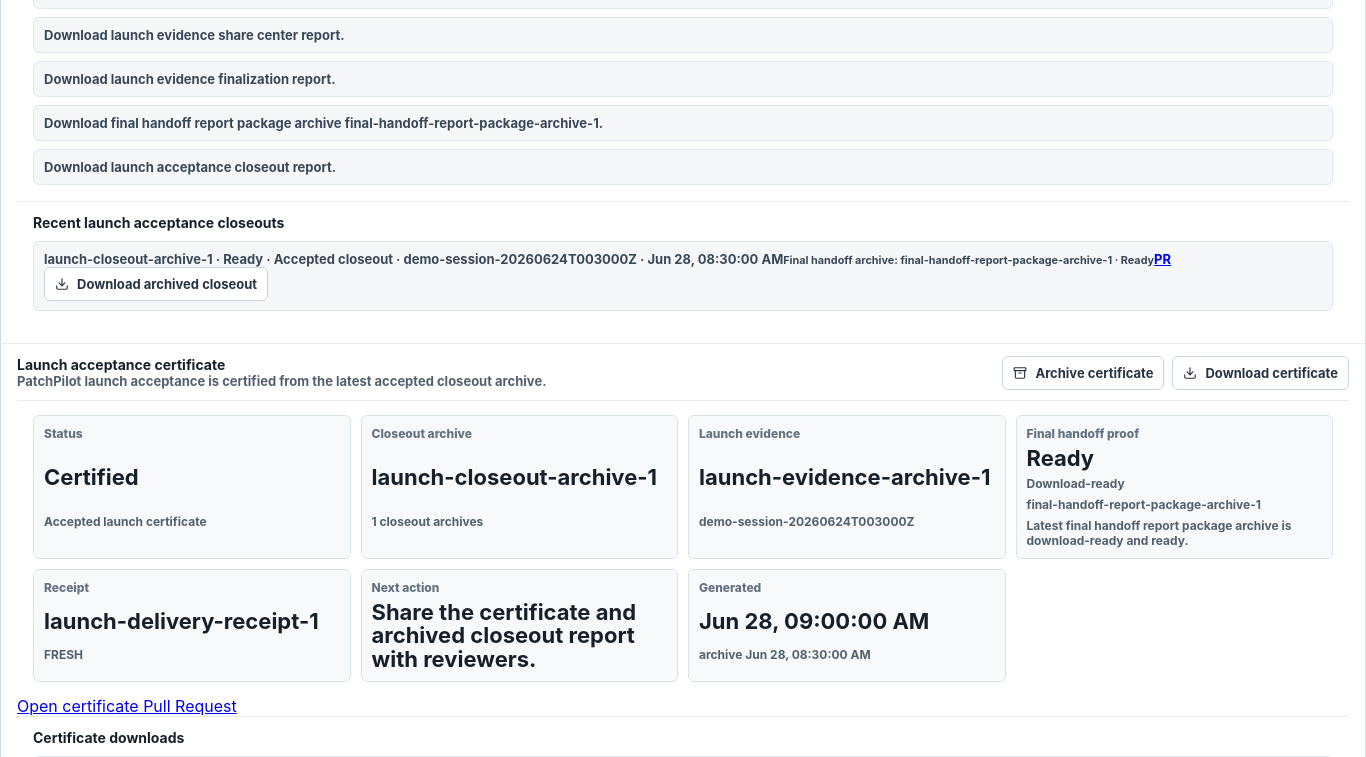
Test: archives launch acceptance certificate and downloads archived report
(page scrolled)
Click the button with aria-label "Archive launch acceptance certificate": click(1083, 373) [1002,356,1164,390]
(page scrolled)
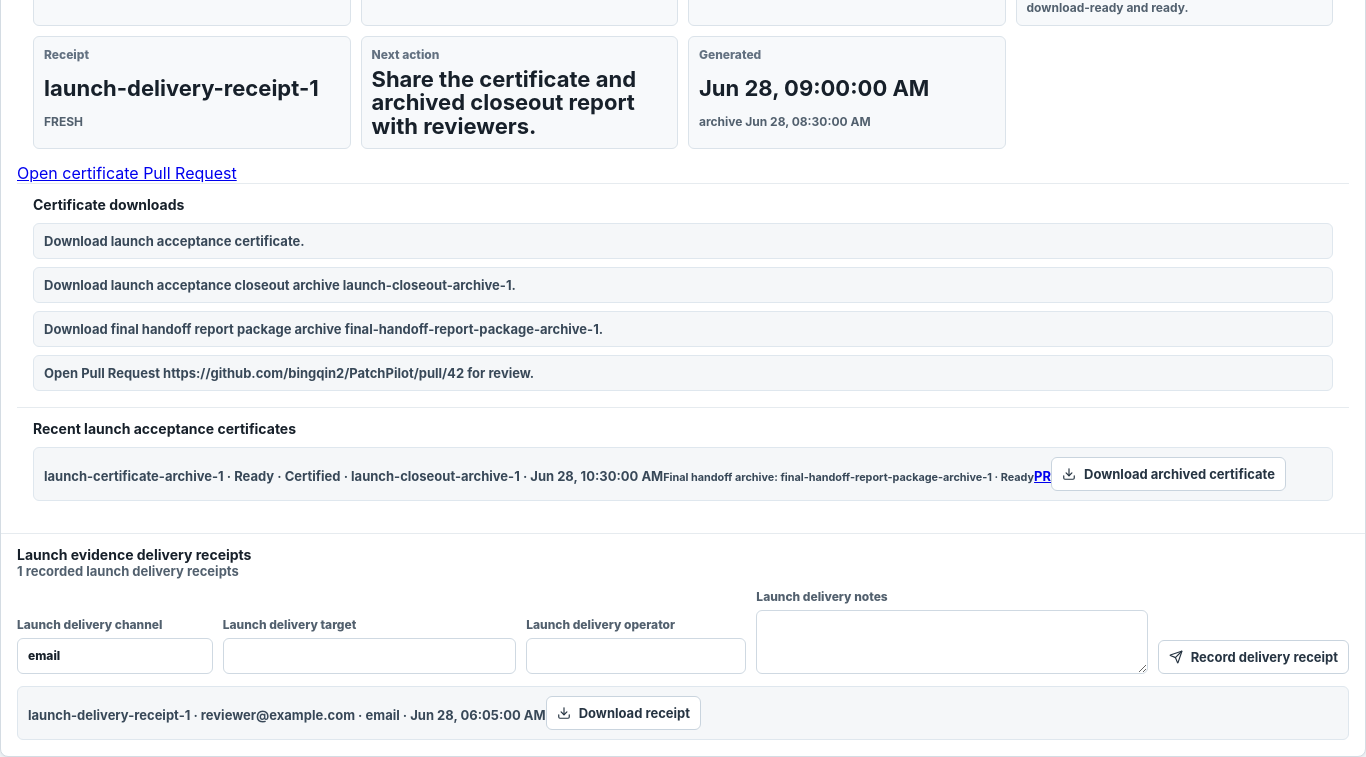
Click the button named "Download launch acceptance certificate archive launch-certificate-archive-1": click(1168, 474) [1051,457,1286,491]
(page scrolled)
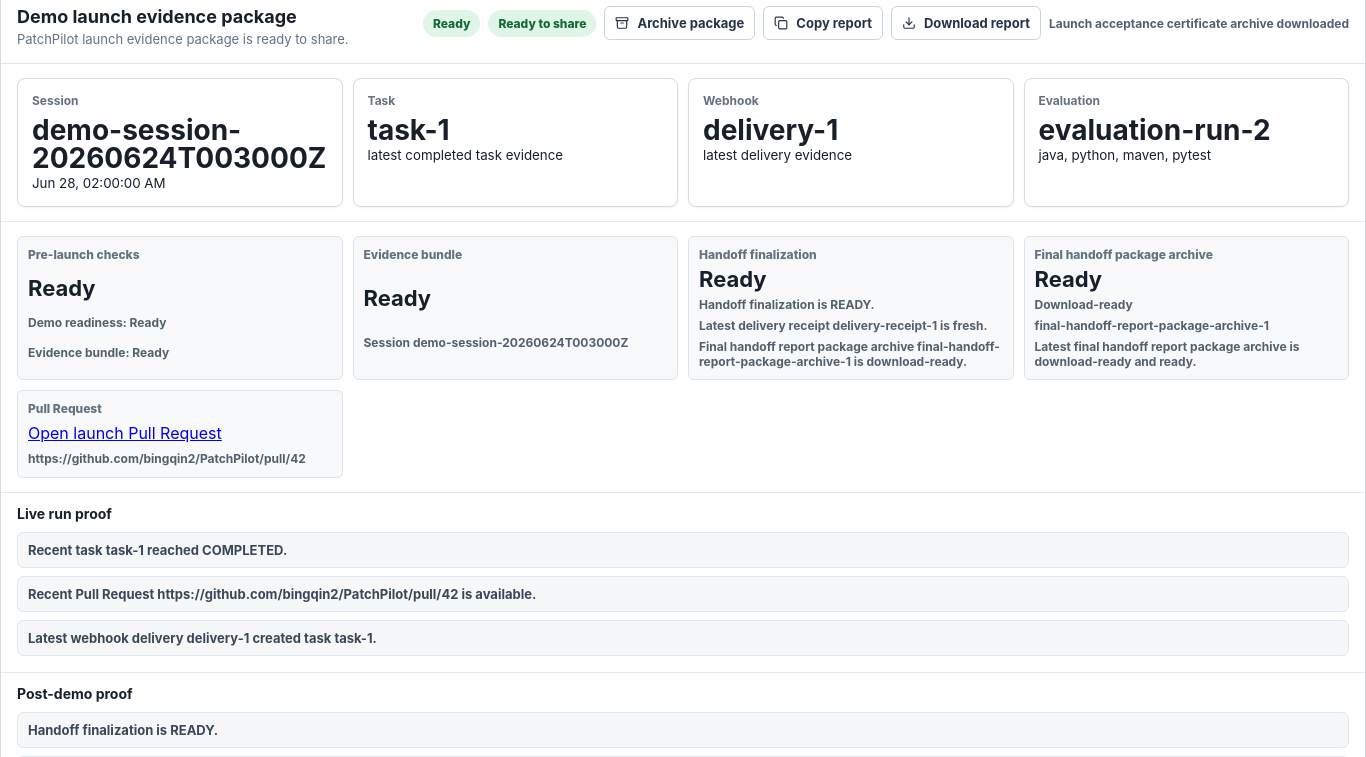
Now the text "Launch acceptance certificate archive downloaded" is shown, box [1049,16,1349,30]
